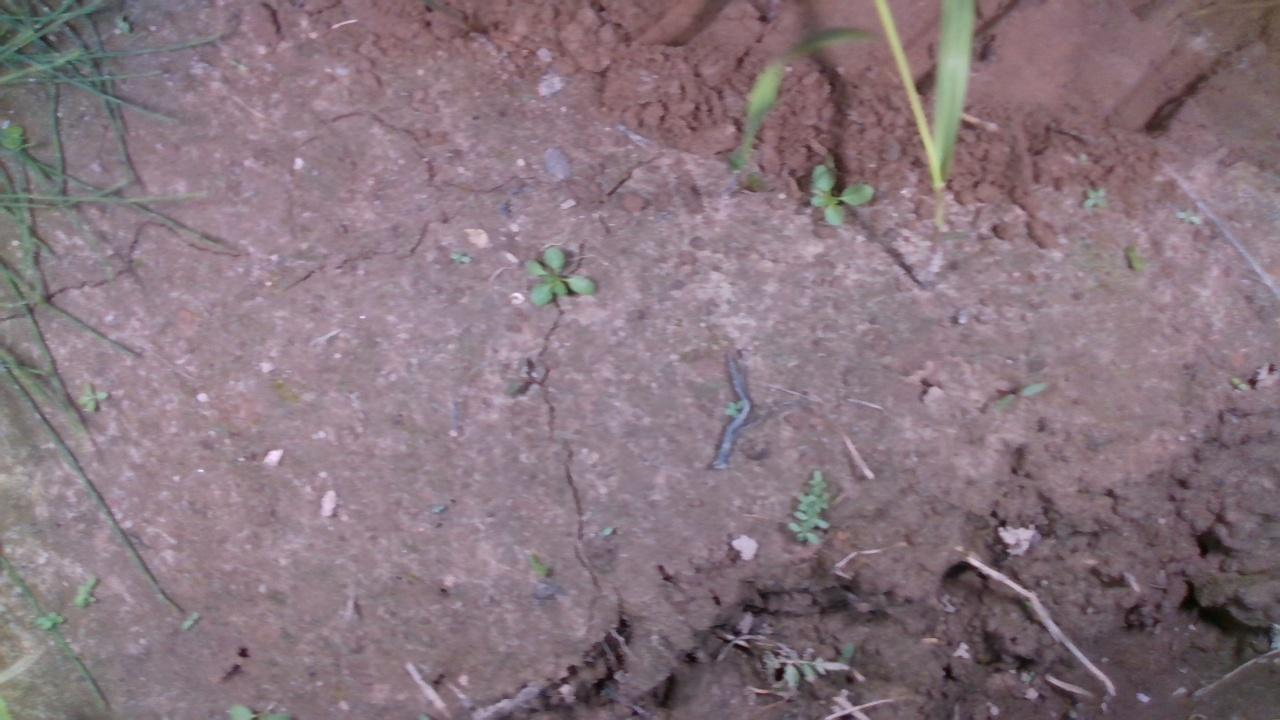weed: (1080, 186, 1108, 208), (445, 249, 472, 264)
